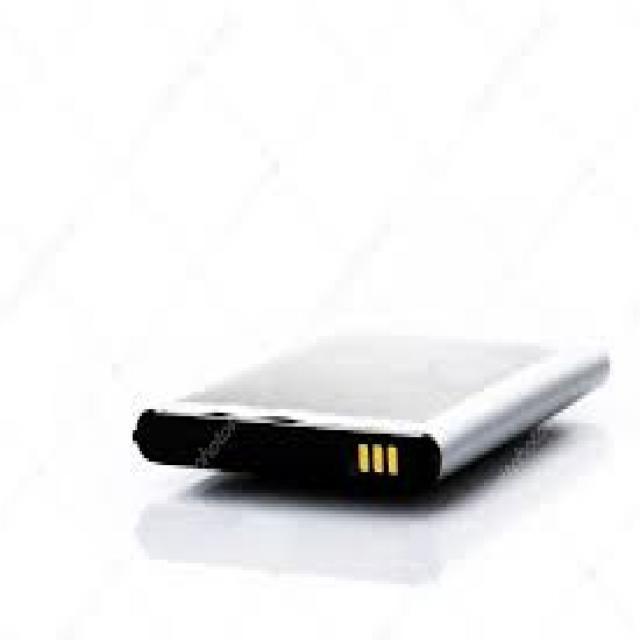battery: (129, 326, 607, 504)
